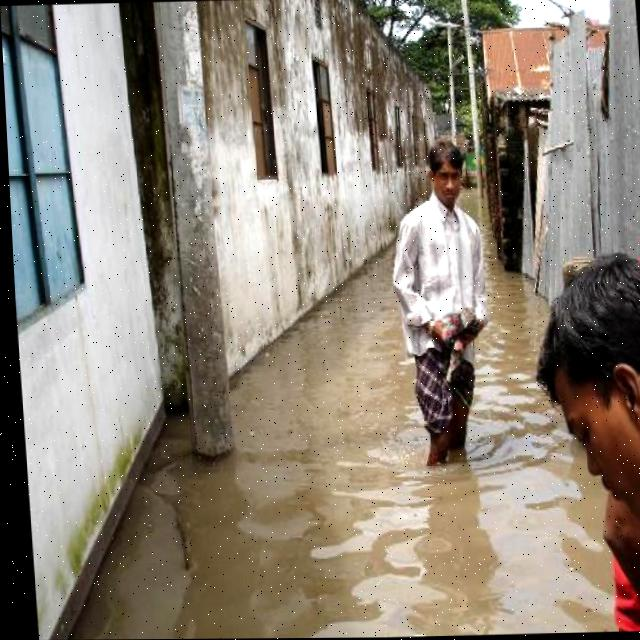civilian: (373, 128, 516, 498), (520, 230, 640, 632)
